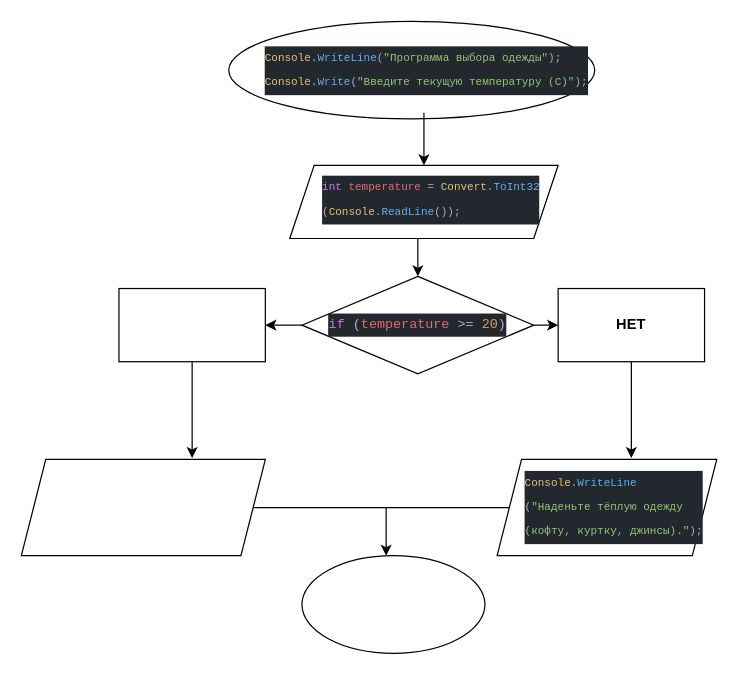
The diagram is 738 pixels wide and 675 high, and some of its shapes have lost their labels. The centre of each missing label's shape, as x and y in pixels:
Console . WriteLine ( "Наденьте лёгкую одежду (футболку, шорты, платье)" );: [142,507]
Console . WriteLine ( "Хорошего дня" ): [393,603]
ДА: [191,324]
